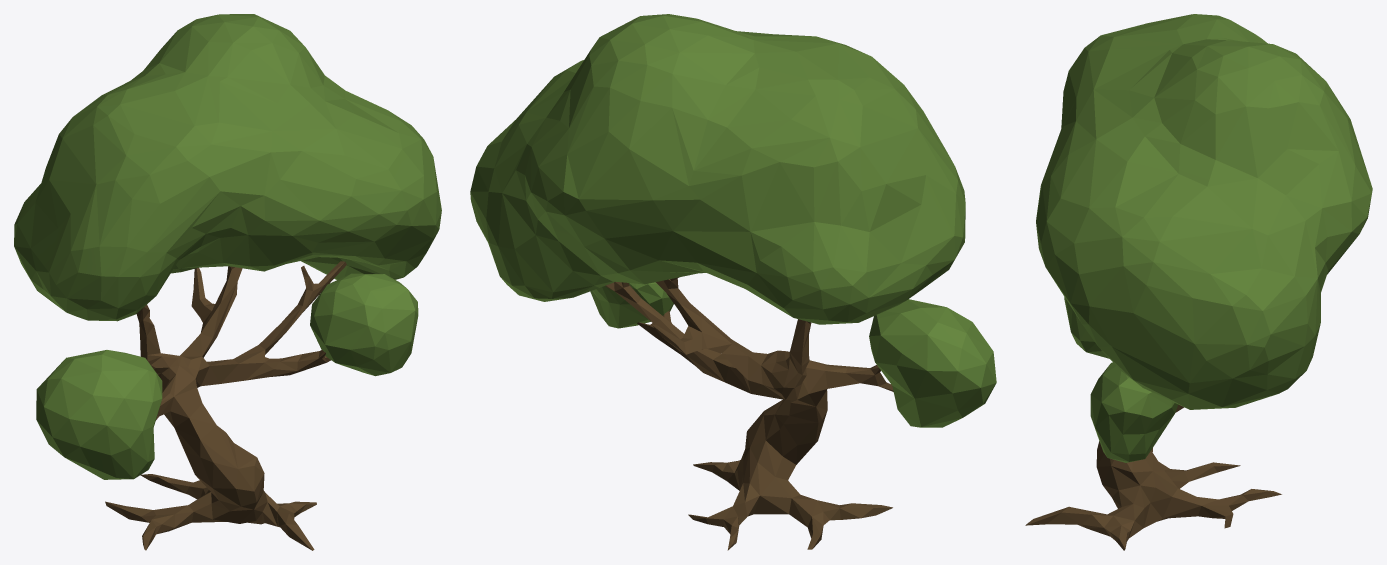
The model's file is Tree_09.fbx.
3 views of the same model, side by side, from view 1: azimuth 30°, elevation 25°; view 2: azimuth 150°, elevation 25°; view 3: azimuth 270°, elevation 25° (orthographic). The views are drawn at different scales.
Parts seen in each view (by area): view 1: Tree_09; view 2: Tree_09; view 3: Tree_09.
Boxes of the visible parts, x1,y1,x2,y2 form: Tree_09: [14, 14, 441, 550]; Tree_09: [470, 14, 996, 550]; Tree_09: [1025, 14, 1372, 550].
Bounding box in the file's own units: 688 × 726 × 462.
